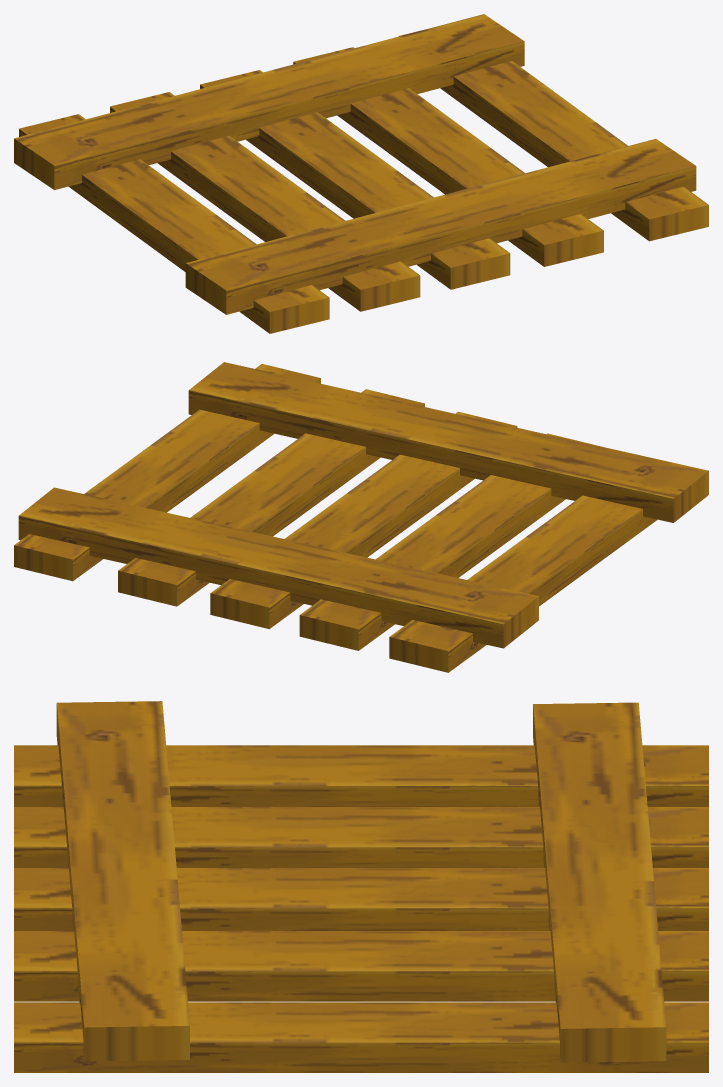
The model's file is prop6.FBX.
3 renders of one model, top to bottom at view 1: azimuth 30°, elevation 25°; view 2: azimuth 150°, elevation 25°; view 3: azimuth 270°, elevation 25°, orthographic. The views are drawn at different scales.
Visible parts, largest first — view 1: Box007; view 2: Box007; view 3: Box007.
Boxes of the visible parts, left/top/right/bottom form: Box007: left=14, top=14, right=708, bottom=333; Box007: left=14, top=362, right=708, bottom=672; Box007: left=14, top=701, right=708, bottom=1072.
Size of the model in its own units: 50.9 by 3.93 by 45.8.
